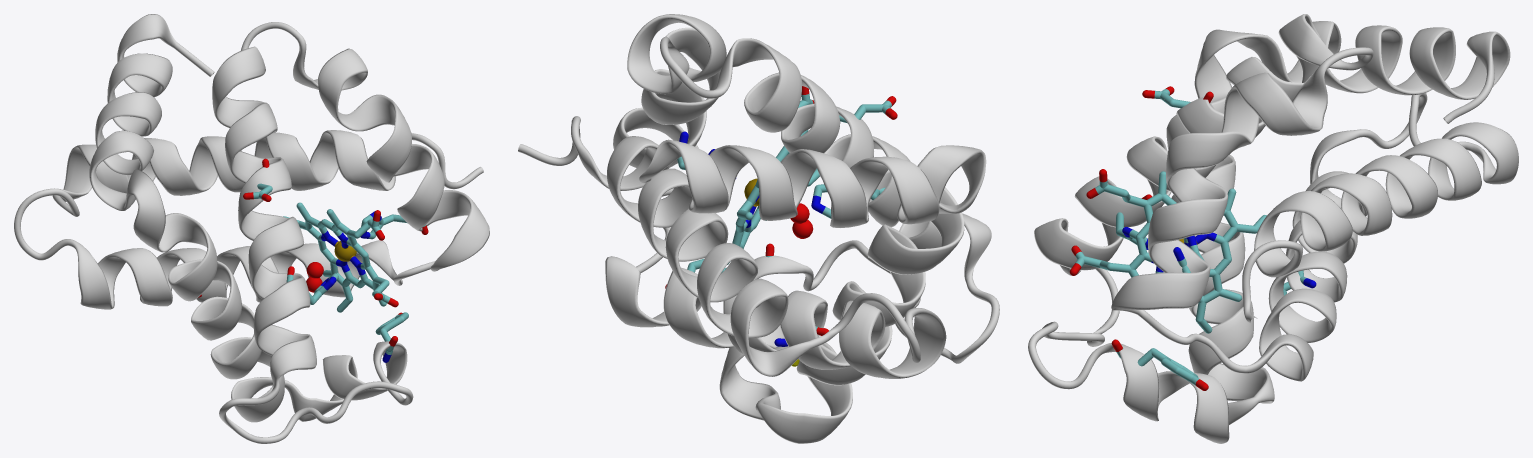
The model's file is frame10.gltf.
3 views of the same model, side by side, from view 1: azimuth 30°, elevation 25°; view 2: azimuth 150°, elevation 25°; view 3: azimuth 270°, elevation 25° (orthographic). The views are drawn at different scales.
Visible parts, largest first — view 1: vmd_mol10_rep3, vmd_mol10_rep2, vmd_mol10_rep1; view 2: vmd_mol10_rep3, vmd_mol10_rep1, vmd_mol10_rep2, vmd_mol10_rep4; view 3: vmd_mol10_rep3, vmd_mol10_rep2, vmd_mol10_rep1.
Boxes of the visible parts, x1,y1,x2,y2 form: vmd_mol10_rep3: (14, 14, 489, 443); vmd_mol10_rep2: (283, 202, 398, 312); vmd_mol10_rep1: (198, 158, 428, 362); vmd_mol10_rep3: (518, 14, 999, 443); vmd_mol10_rep1: (665, 96, 897, 366); vmd_mol10_rep2: (727, 86, 819, 264); vmd_mol10_rep4: (790, 203, 813, 238); vmd_mol10_rep3: (1028, 14, 1518, 443); vmd_mol10_rep2: (1070, 169, 1266, 333); vmd_mol10_rep1: (1111, 86, 1316, 390).
Bounding box in the file's own units: 1.41 × 1.19 × 1.3.
